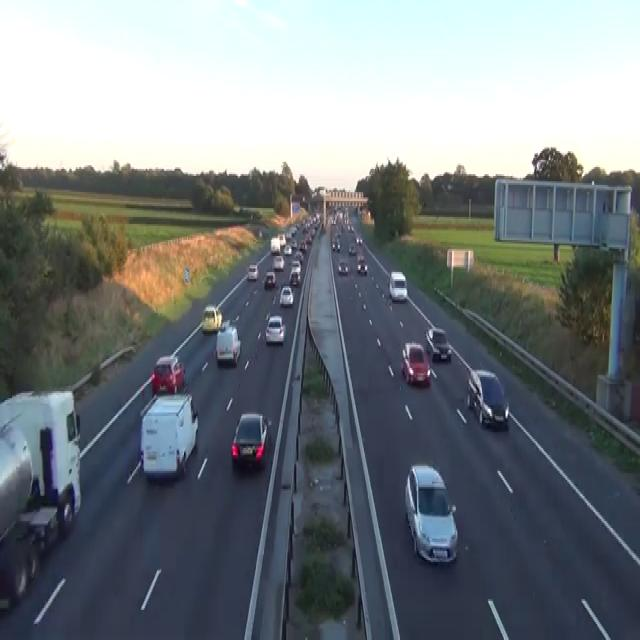Car: (404, 462, 458, 564), (0, 418, 33, 542), (0, 519, 39, 610), (466, 368, 509, 428), (230, 410, 268, 468), (151, 354, 185, 394), (401, 341, 430, 386), (215, 320, 240, 364), (425, 325, 451, 361), (265, 315, 285, 345), (388, 270, 407, 300), (202, 304, 222, 332), (279, 284, 293, 306), (263, 270, 276, 288), (356, 254, 367, 274), (247, 263, 259, 281), (337, 260, 348, 276), (273, 254, 284, 270), (270, 236, 280, 252), (289, 268, 299, 284), (291, 260, 301, 274), (293, 252, 303, 265), (332, 238, 340, 251), (283, 244, 292, 254), (348, 244, 356, 254), (290, 238, 297, 249), (299, 240, 306, 251), (305, 233, 312, 243), (357, 254, 364, 263), (290, 226, 296, 236), (355, 236, 362, 244), (348, 224, 354, 233), (258, 230, 262, 237)
Truck: (0, 388, 81, 610), (139, 391, 198, 480)
